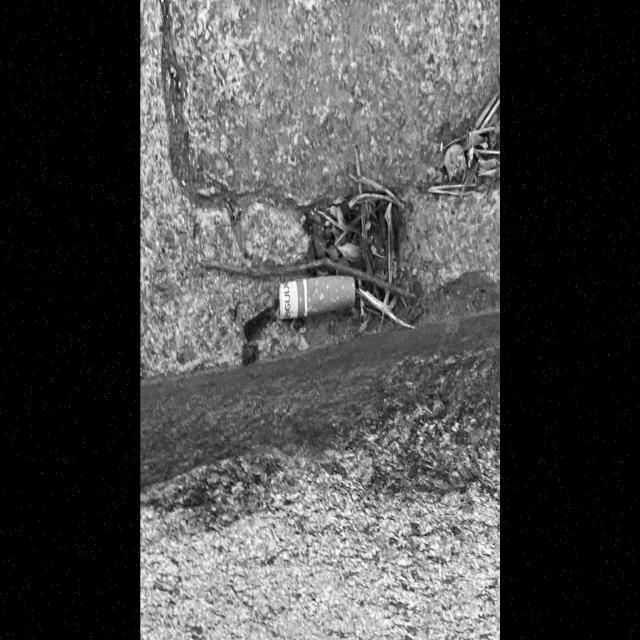other waste: (277, 274, 356, 322)
